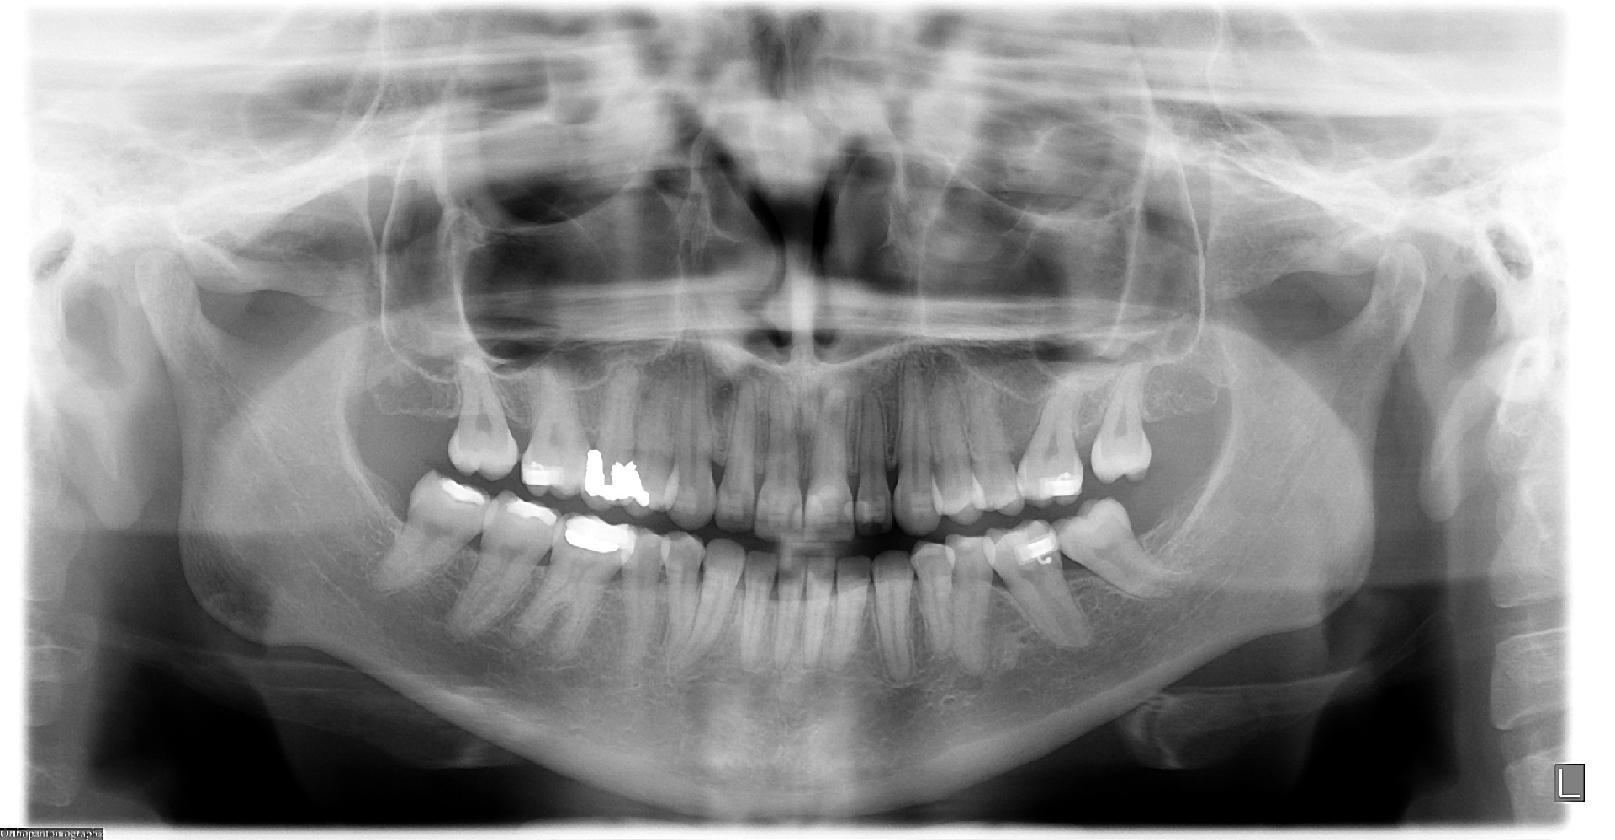Erupted: (369, 466, 495, 616)
